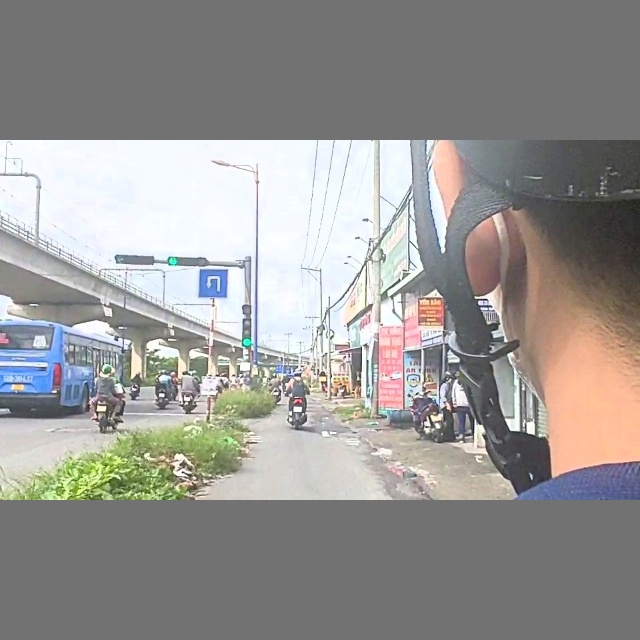I.409: (197, 268, 231, 301)
